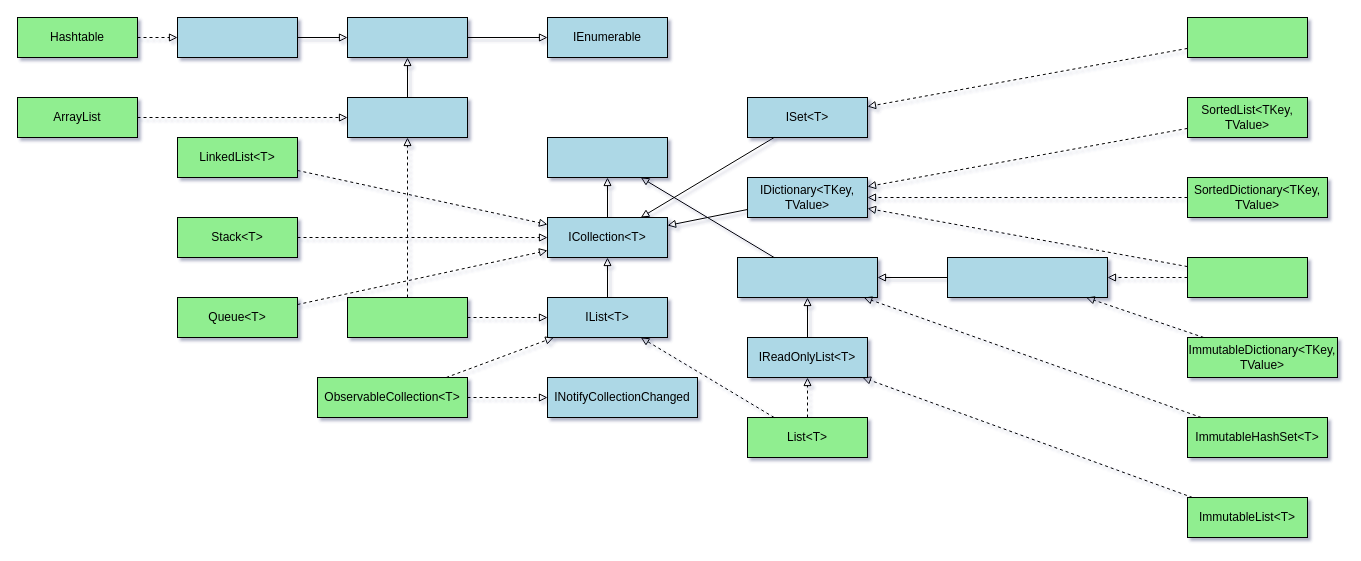
Some shapes in this 1361 by 561 pixel diagram are drawn without their labels. Here are the shapes that lost their labels. From the top down, the centre of each, then its label:
At pixel 237 37: "IDictionary".
At pixel 407 37: "ICollection".
At pixel 1247 37: "HashSet<T>".
At pixel 407 117: "IList".
At pixel 607 157: "IEnumerable<T>".
At pixel 807 277: "IReadOnlyCollection<T>".
At pixel 1027 277: "IReadOnlyDictionary<TKey, TValue>".
At pixel 1247 277: "Dictionary<TKey, TValue>".
At pixel 407 317: "Array".
